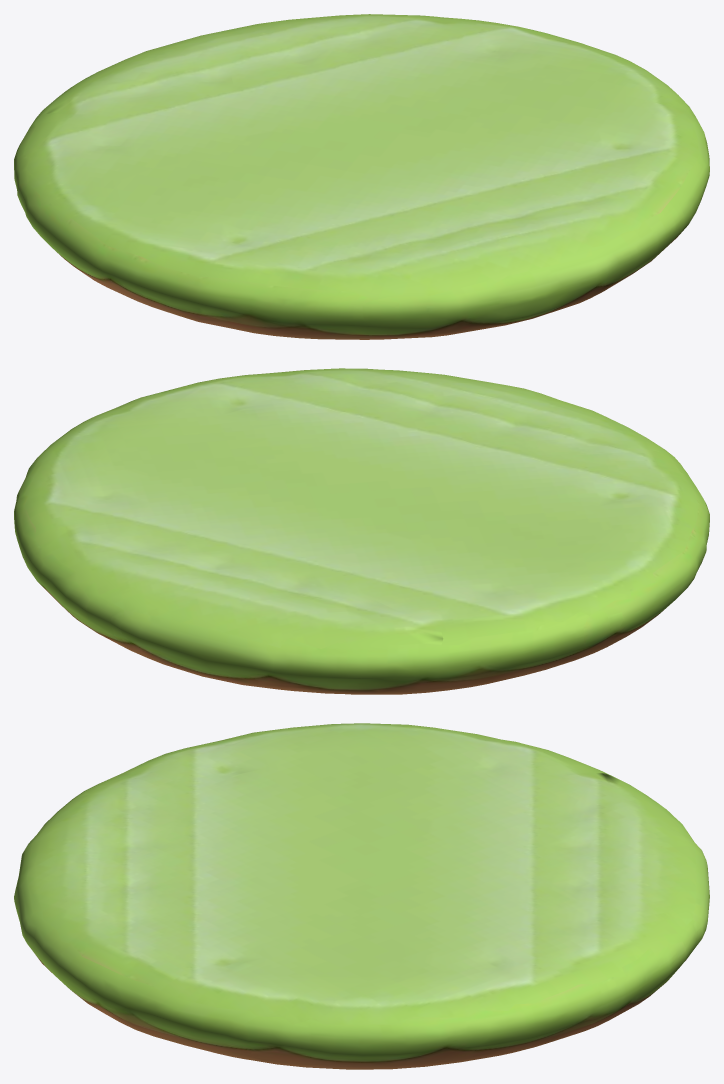
Rendered from platform.glb.
3 renders of one model, top to bottom at view 1: azimuth 30°, elevation 25°; view 2: azimuth 150°, elevation 25°; view 3: azimuth 270°, elevation 25°, orthographic. The views are drawn at different scales.
Visible parts, largest first — view 1: prop; view 2: prop; view 3: prop.
Part boxes in pixels (bbox=[...]): prop: bbox=[14, 14, 709, 339]; prop: bbox=[14, 368, 709, 694]; prop: bbox=[14, 723, 709, 1069].
Bounding box in the file's own units: 8.03 × 1 × 7.71.
1 material, 1 textured.
